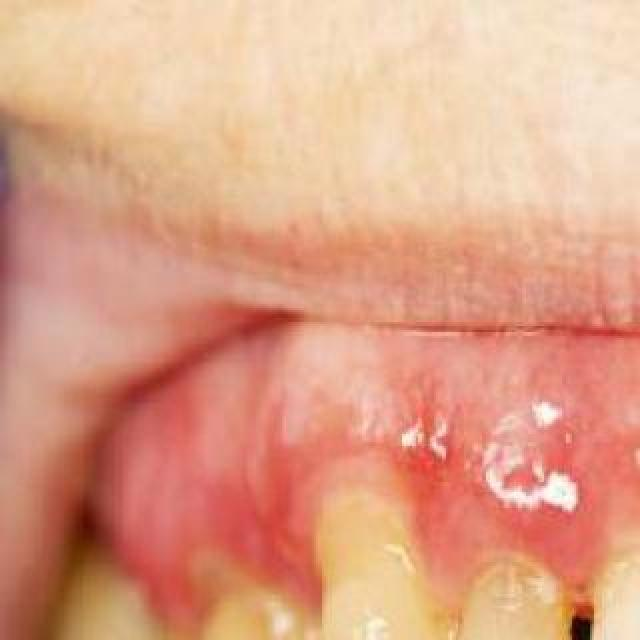calculus: (168, 506, 282, 640)
plaque: (434, 528, 550, 640)
spacing: (536, 586, 612, 640)
